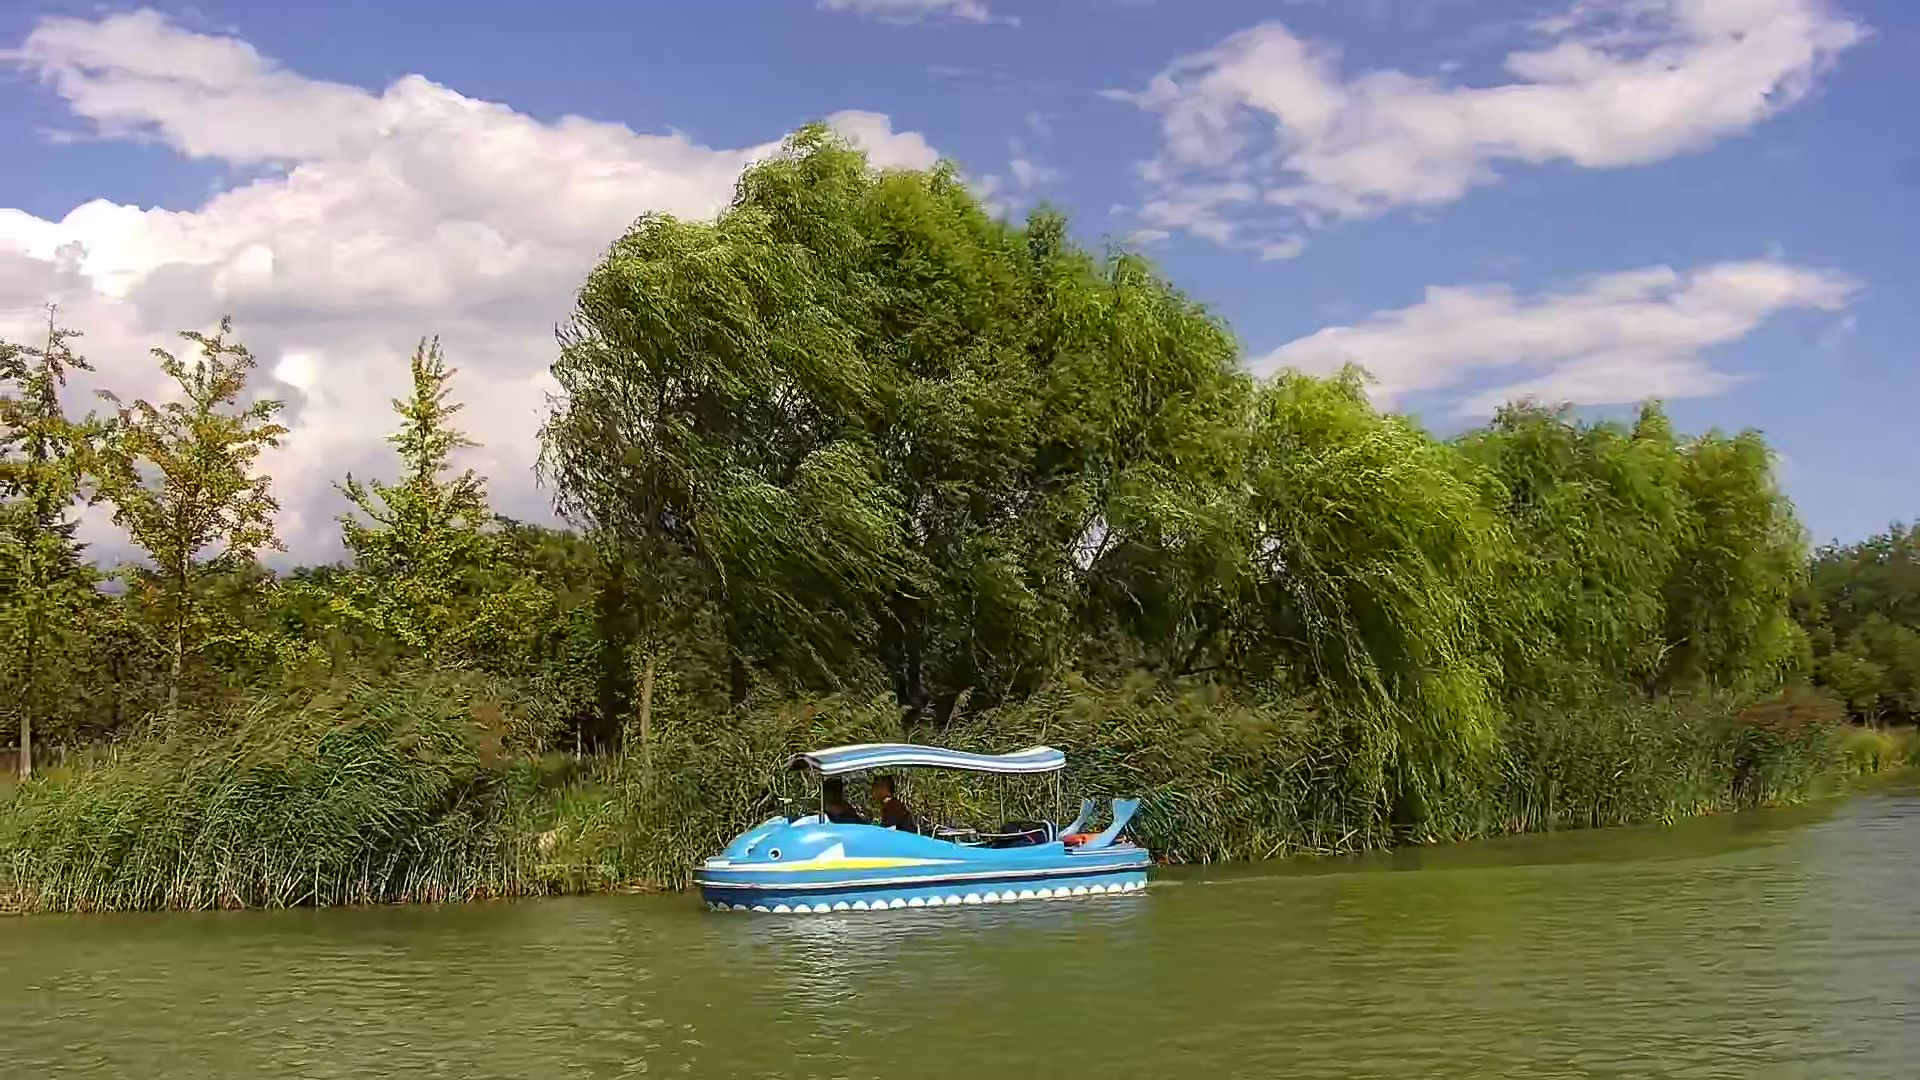boat: (691, 744, 1150, 915)
person: (871, 773, 919, 835), (823, 775, 859, 825)
